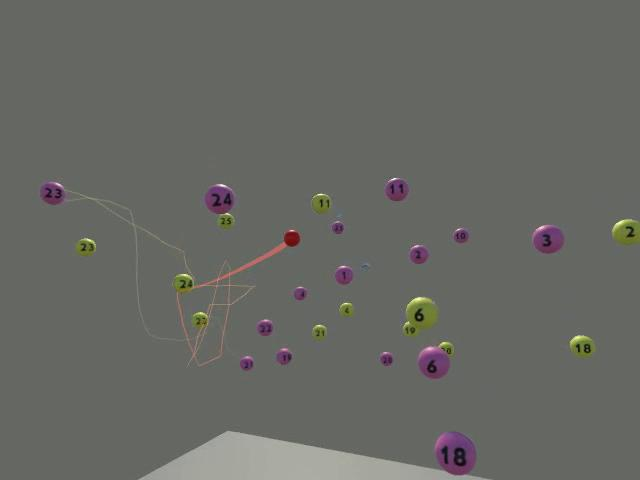ball_01_pink: (334, 265, 353, 284)
ball_02_pink: (409, 244, 428, 263)
ball_02_yellow: (611, 218, 639, 245)
ball_03_pink: (531, 224, 564, 253)
ball_04_pink: (293, 286, 307, 300)
ball_04_yellow: (338, 302, 353, 317)
ball_06_pink: (418, 347, 450, 378)
ball_06_yellow: (405, 296, 438, 329)
ball_10_pink: (452, 226, 469, 242)
ball_11_pink: (384, 177, 408, 201)
ball_11_yellow: (311, 193, 331, 213)
ball_18_pink: (434, 431, 475, 475)
ball_18_yellow: (569, 335, 596, 358)
ball_19_pink: (275, 349, 292, 365)
ball_19_yellow: (402, 321, 417, 336)
ball_20_pink: (379, 350, 394, 366)
ball_21_pink: (239, 355, 255, 371)
ball_21_yellow: (311, 324, 327, 340)
ball_22_pink: (256, 320, 273, 335)
ball_22_yellow: (191, 311, 207, 328)
ball_23_pink: (39, 181, 66, 205)
ball_23_yellow: (75, 238, 97, 257)
ball_24_pink: (204, 183, 234, 213)
ball_24_yellow: (172, 273, 193, 292)
ball_25_pink: (331, 220, 344, 234)
ball_25_yellow: (217, 212, 234, 229)
ball_unknown: (438, 341, 453, 356)
user_cursor: (283, 230, 300, 246)
